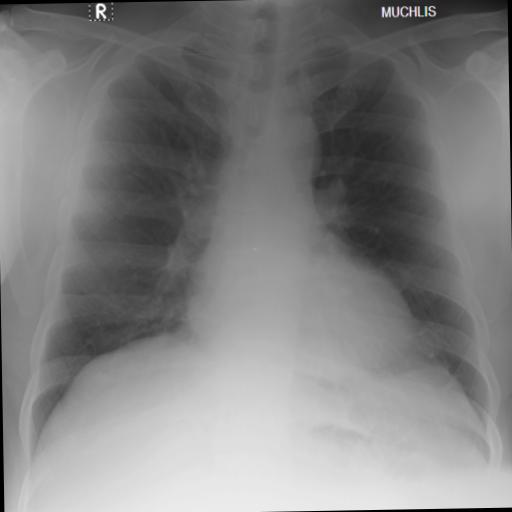kardiomegali: (12, 11, 512, 474)
